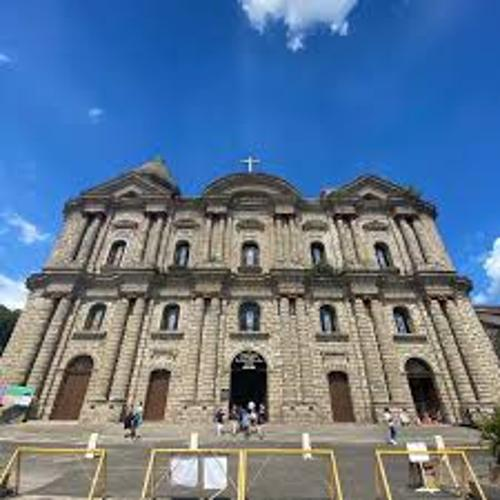Taal Basilica Church: (17, 147, 497, 430)
